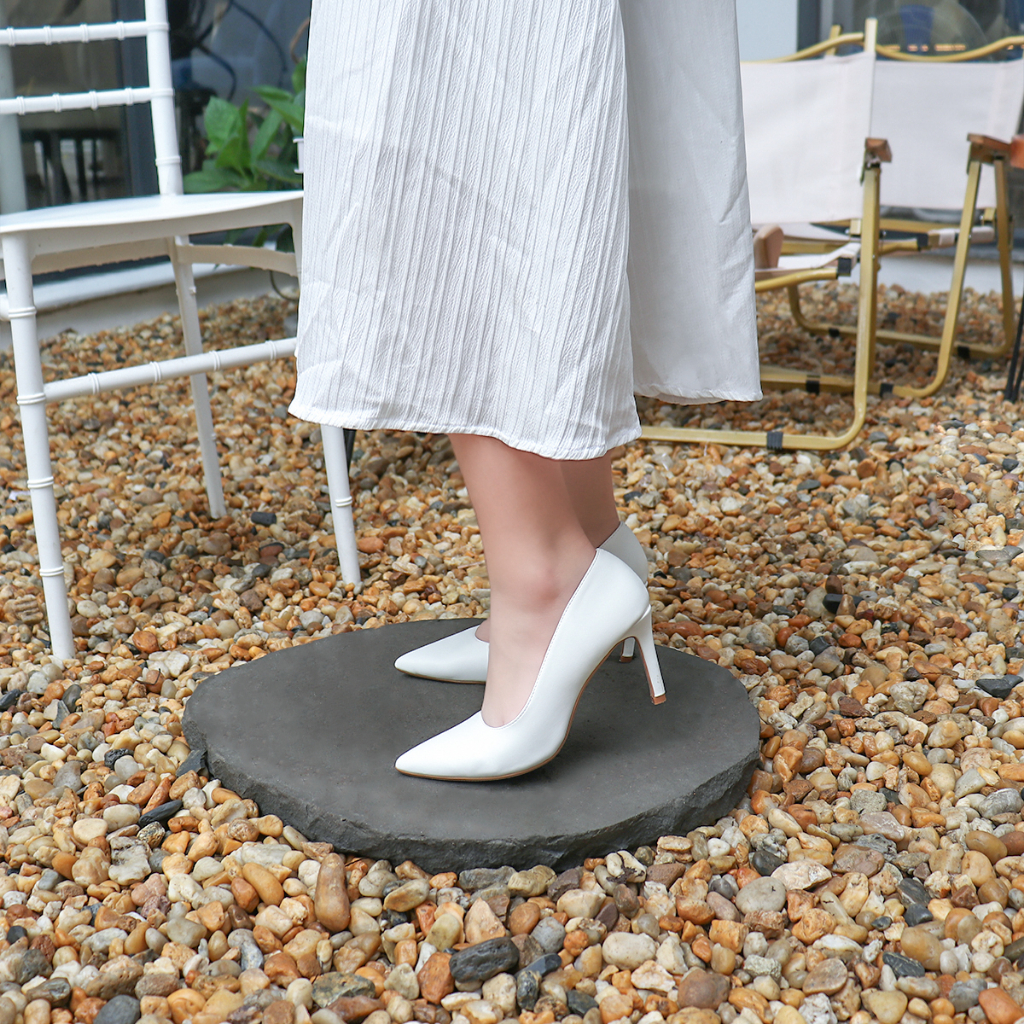high heels: (394, 552, 671, 785), (390, 520, 649, 685)
